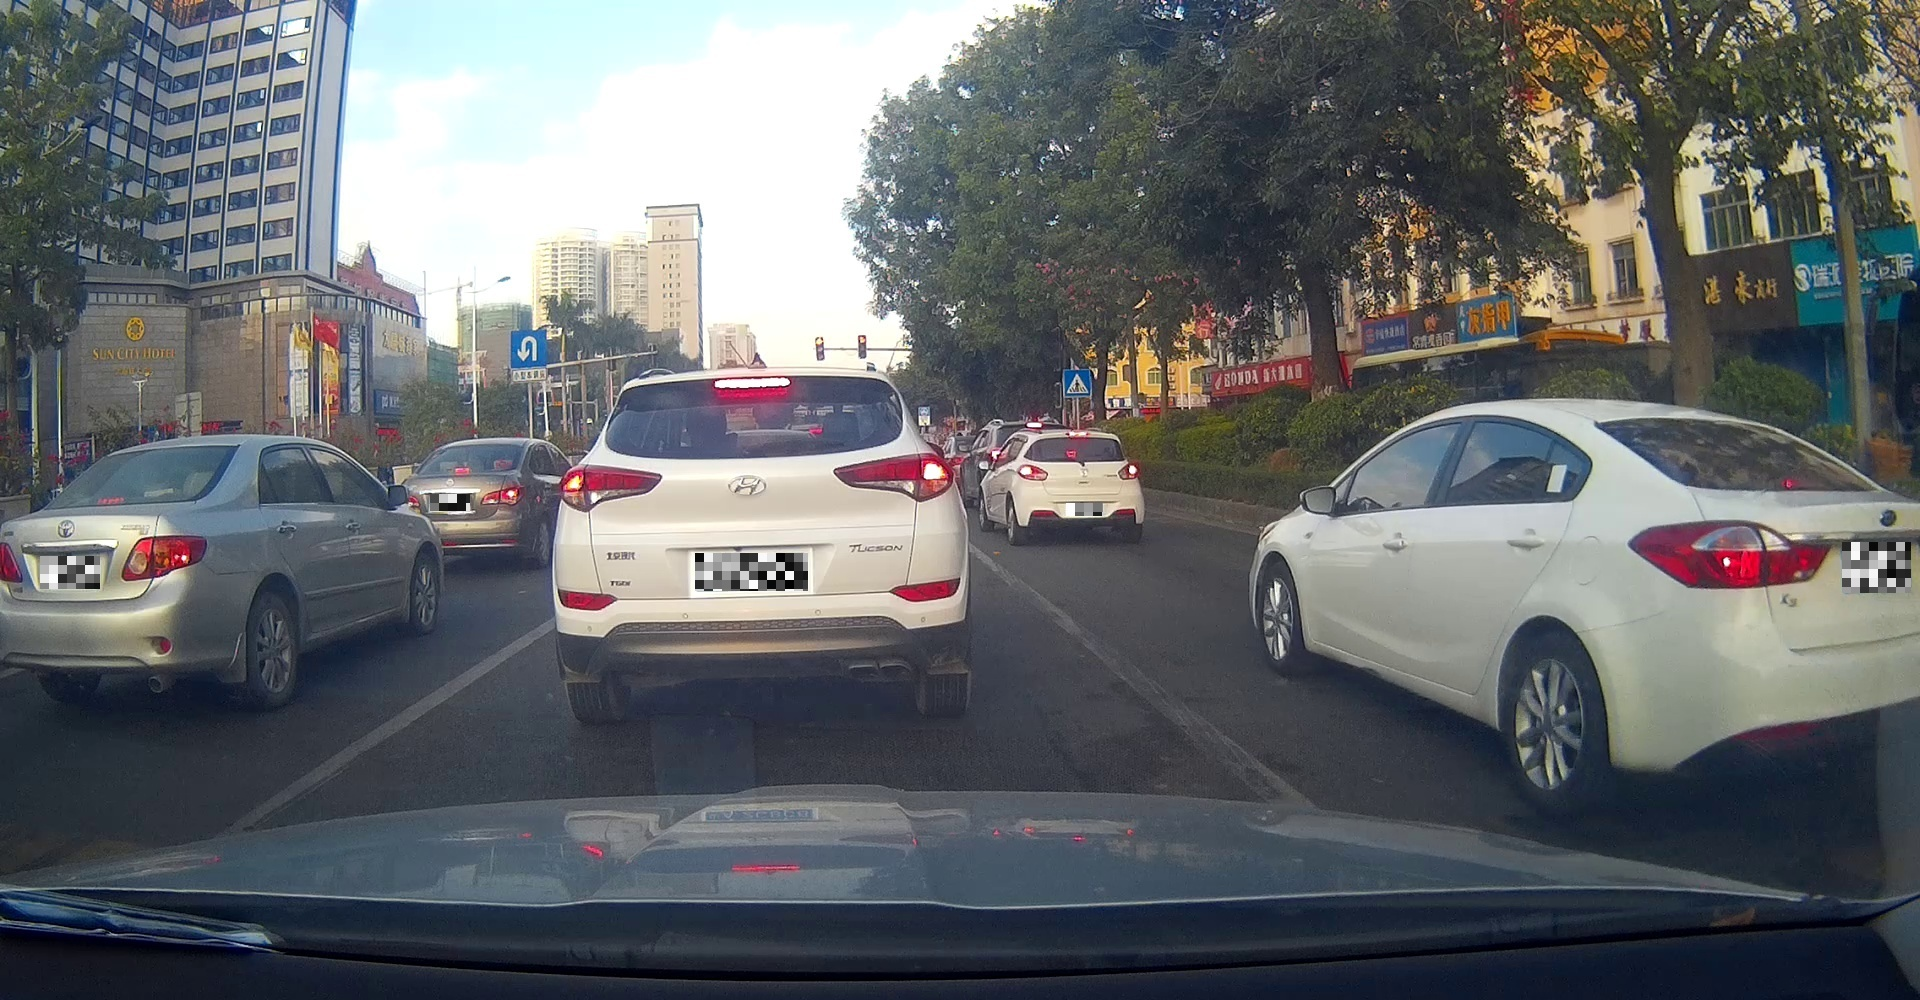L_light: (557, 462, 662, 513), (0, 541, 24, 582), (1016, 463, 1049, 481)
R_light: (833, 452, 954, 503), (121, 534, 207, 581), (1117, 461, 1140, 480)
T_light: (712, 373, 792, 390), (94, 496, 124, 506), (1065, 430, 1090, 439)
day-brake: (552, 365, 966, 723), (0, 433, 245, 714), (1013, 429, 1142, 547)
plate_1: (41, 556, 100, 589)
plate_2: (430, 494, 470, 511)
plate_3: (695, 553, 808, 591)
plate_4: (1065, 503, 1103, 516)
plate_5: (1843, 542, 1911, 593)
